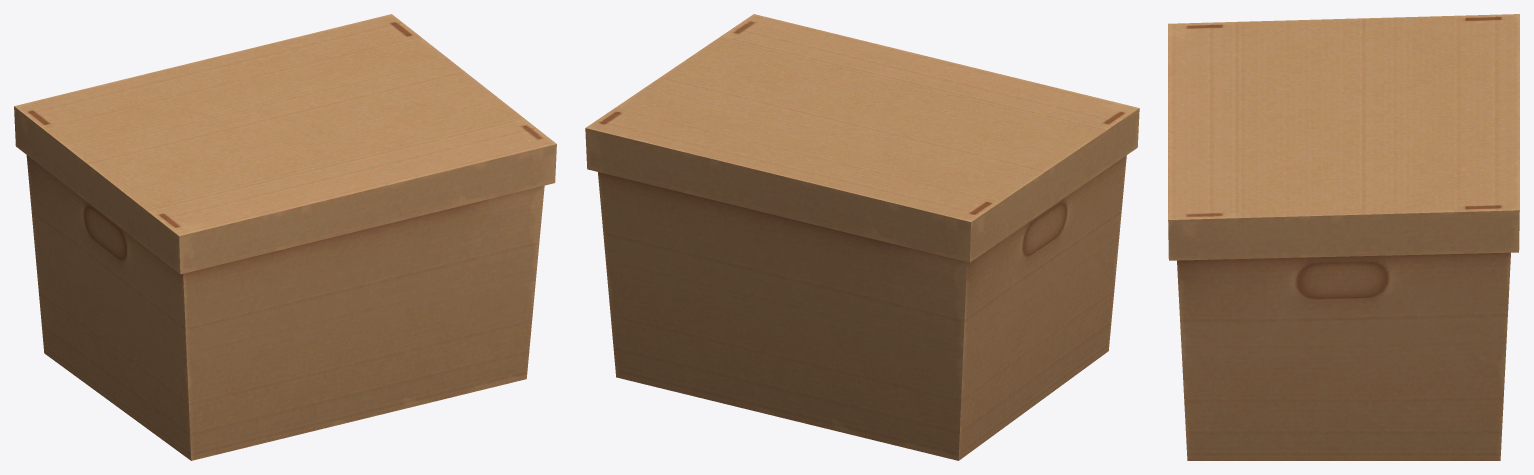
File: OfficeBox01.fbx
The picture shows the model from 3 angles, left to right: view 1: azimuth 30°, elevation 25°; view 2: azimuth 150°, elevation 25°; view 3: azimuth 270°, elevation 25°; orthographic projection. The views are drawn at different scales.
Visible parts, largest first — view 1: OfficeBox01A; view 2: OfficeBox01A; view 3: OfficeBox01A.
Boxes of the visible parts, x1=… form: OfficeBox01A: x1=14, y1=14, x2=556, y2=460; OfficeBox01A: x1=585, y1=14, x2=1139, y2=460; OfficeBox01A: x1=1168, y1=14, x2=1519, y2=460.
Size of the model in its own units: 0.4115 by 0.2557 by 0.3115.
1 material, 1 textured.
